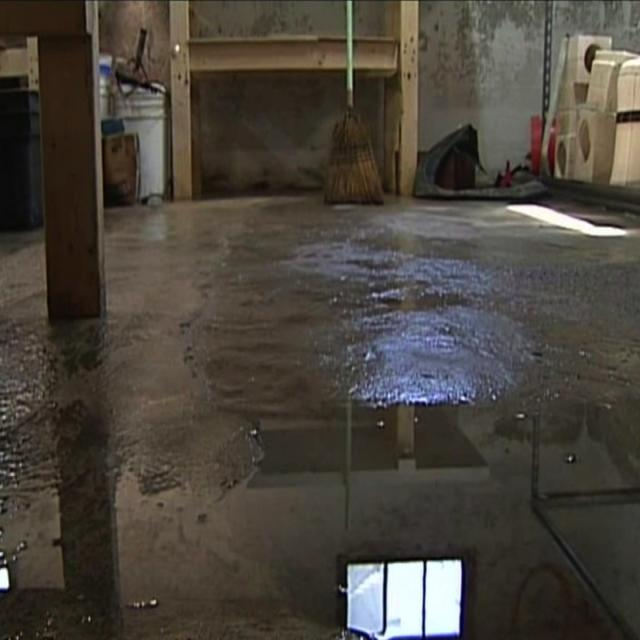Water_Leakage: (23, 202, 631, 560), (187, 4, 571, 172)
